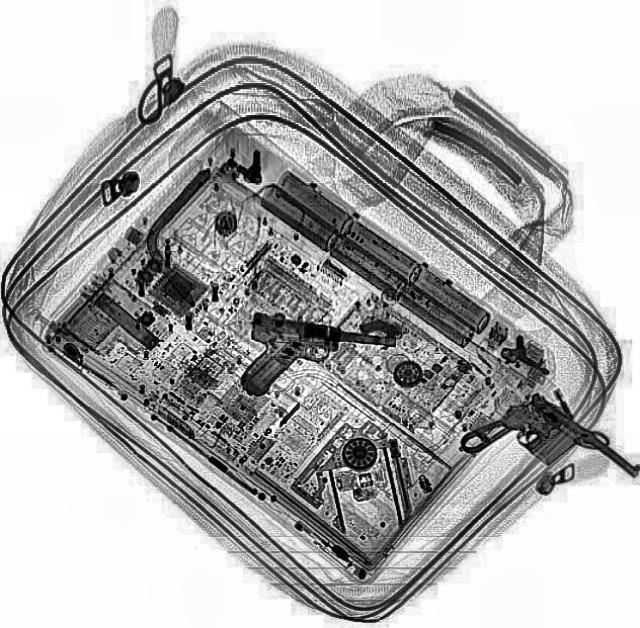Gun: (457, 377, 639, 534), (236, 310, 398, 410)
